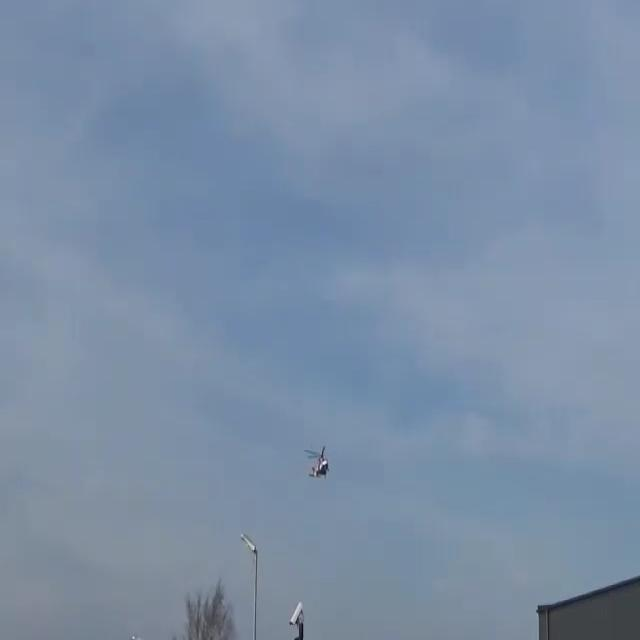Helicopter: (298, 441, 340, 481)
